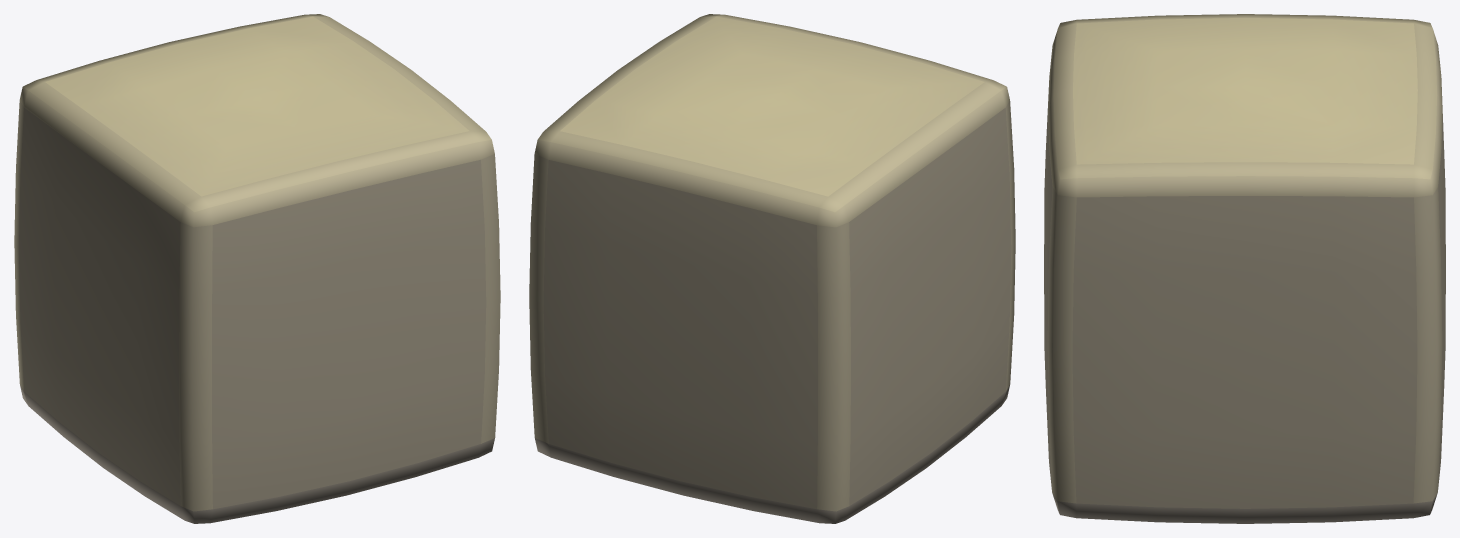
File: block_stone3_2_LOD_setup.fbx
The picture shows the model from 3 angles, left to right: view 1: azimuth 30°, elevation 25°; view 2: azimuth 150°, elevation 25°; view 3: azimuth 270°, elevation 25°; orthographic projection. The views are drawn at different scales.
Parts seen in each view (by area): view 1: block_stone3_2_LOD0; view 2: block_stone3_2_LOD0; view 3: block_stone3_2_LOD0.
Boxes of the visible parts, x1=… form: block_stone3_2_LOD0: x1=14, y1=14, x2=500, y2=523; block_stone3_2_LOD0: x1=529, y1=14, x2=1015, y2=523; block_stone3_2_LOD0: x1=1044, y1=14, x2=1445, y2=523.
Size of what is drawn, in the model's own units: 109 by 109 by 109.
